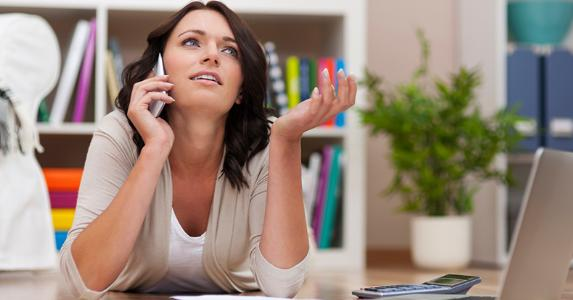phone: (130, 56, 180, 122)
talk: (128, 27, 243, 144)
